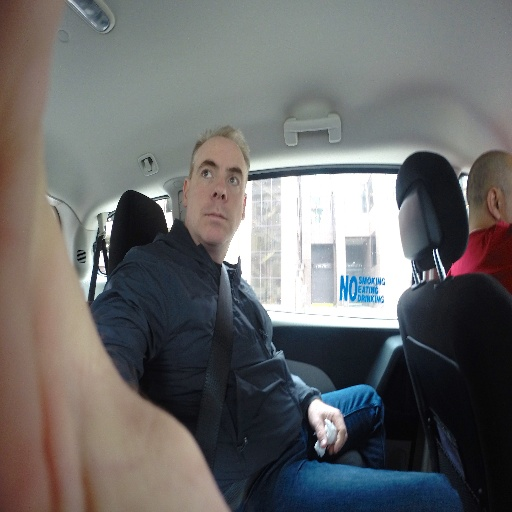hand: (0, 0, 230, 511), (309, 395, 355, 460)
